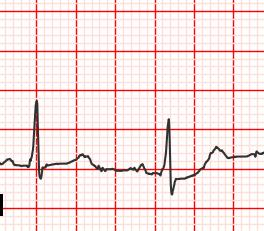LVH: (66, 150, 102, 170)
ST Depression: (157, 170, 181, 199)
